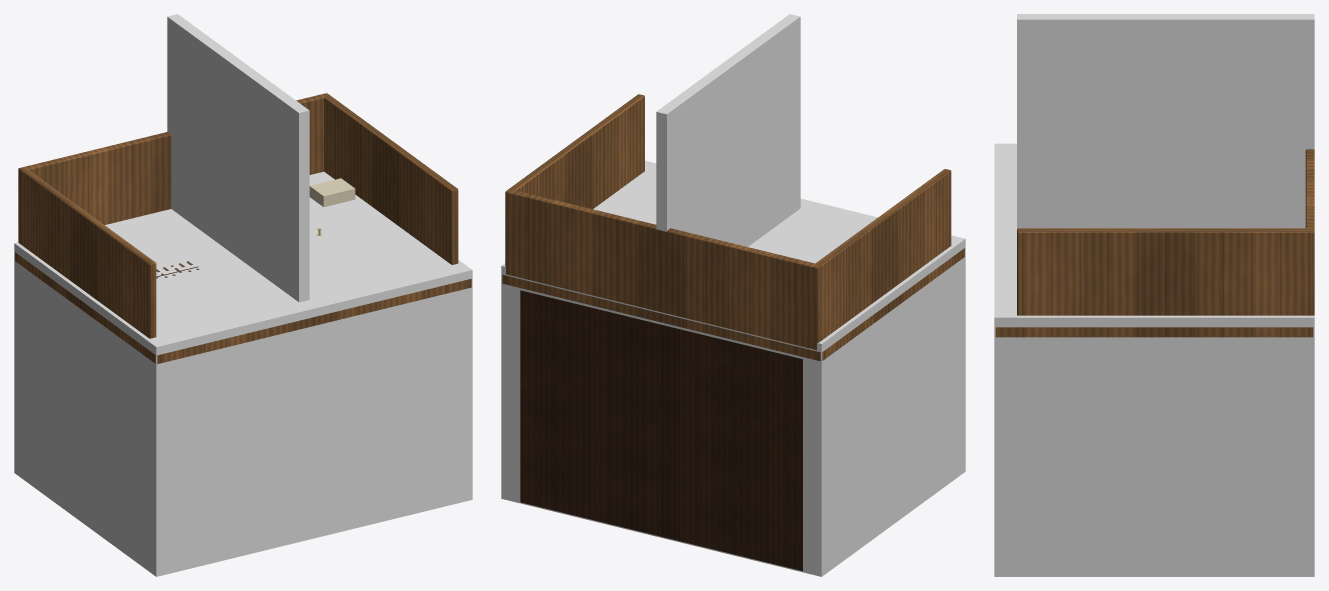
The model's file is bandai.mobile.glb.
3 renders of one model, left to right at view 1: azimuth 30°, elevation 25°; view 2: azimuth 150°, elevation 25°; view 3: azimuth 270°, elevation 25°, orthographic. The views are drawn at different scales.
Parts seen in each view (by area): view 1: COL_Booth, Bandai, COL_Divider; view 2: Bandai, COL_Booth, COL_Divider; view 3: COL_Booth, COL_Divider, Bandai.
Boxes of the visible parts, bbox=[...] form: COL_Booth: bbox=[14, 171, 472, 576]; Bandai: bbox=[15, 93, 471, 363]; COL_Divider: bbox=[167, 14, 309, 302]; Bandai: bbox=[502, 94, 964, 571]; COL_Booth: bbox=[501, 160, 965, 576]; COL_Divider: bbox=[656, 14, 800, 246]; COL_Booth: bbox=[994, 143, 1314, 576]; COL_Divider: bbox=[1017, 14, 1314, 229]; Bandai: bbox=[995, 149, 1314, 337].
Bounding box in the file's own units: 1.8 × 2.28 × 1.4.
Materials: 7 (2 with a texture image).
